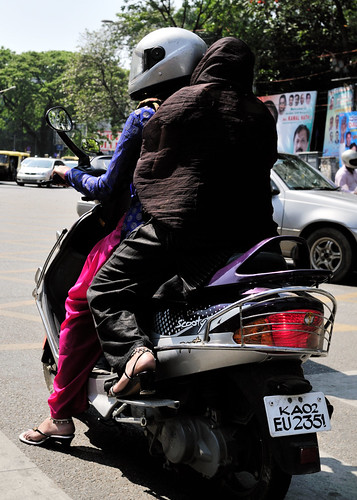helmet: (116, 23, 205, 93)
